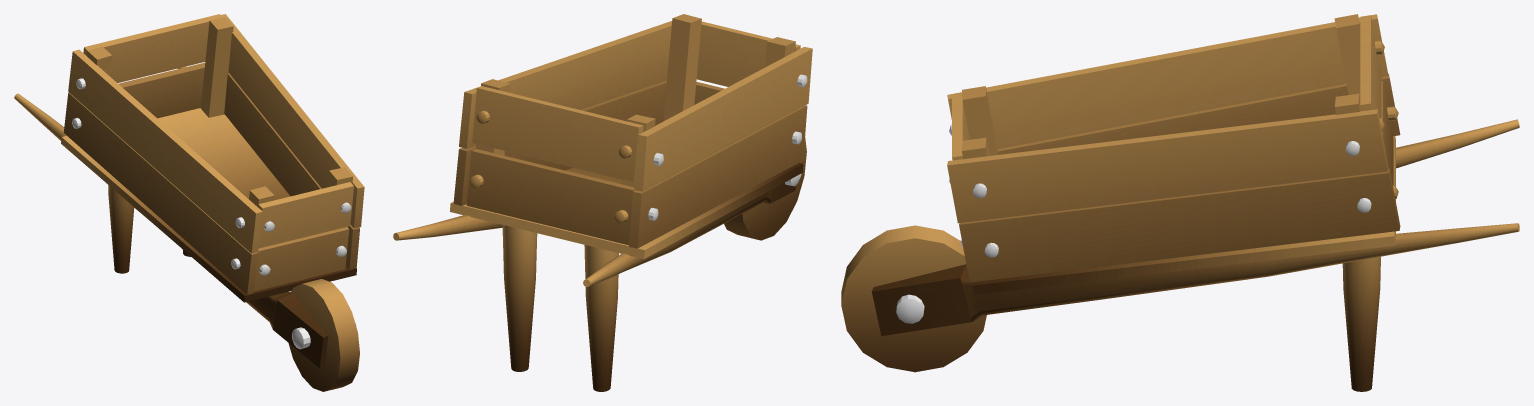
Rendered from wheelbarrow.fbx.
The picture shows the model from 3 angles, left to right: view 1: azimuth 30°, elevation 25°; view 2: azimuth 150°, elevation 25°; view 3: azimuth 270°, elevation 25°; orthographic projection. The views are drawn at different scales.
Parts seen in each view (by area): view 1: wheelbarrow; view 2: wheelbarrow; view 3: wheelbarrow.
Part boxes in pixels (bbox=[...]): wheelbarrow: bbox=[14, 14, 364, 391]; wheelbarrow: bbox=[393, 14, 812, 391]; wheelbarrow: bbox=[841, 14, 1519, 391].
Bounding box in the file's own units: 1.12 × 1.49 × 2.97.
